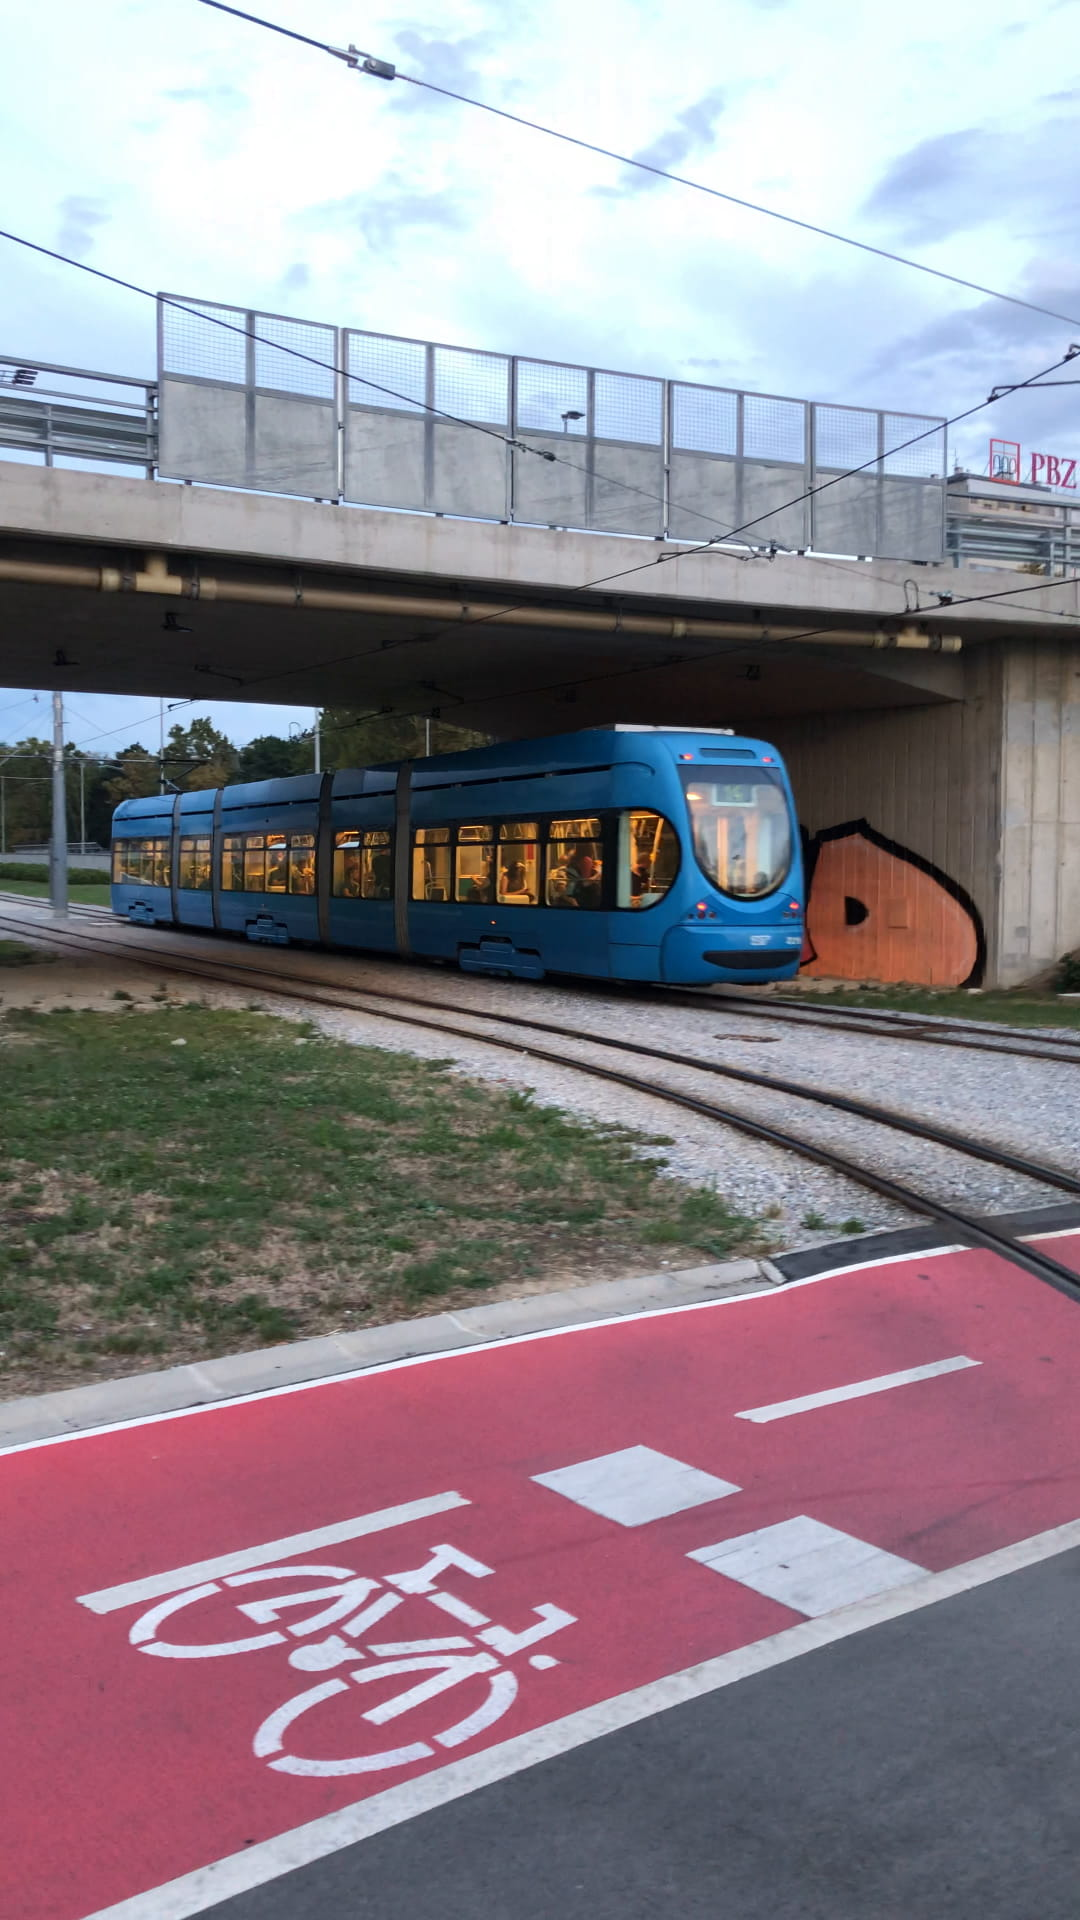tramvaj: (104, 720, 810, 1005)
